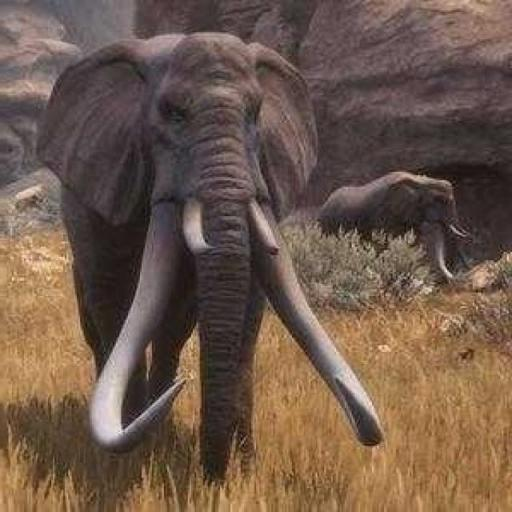Elephant: (34, 29, 386, 488)
